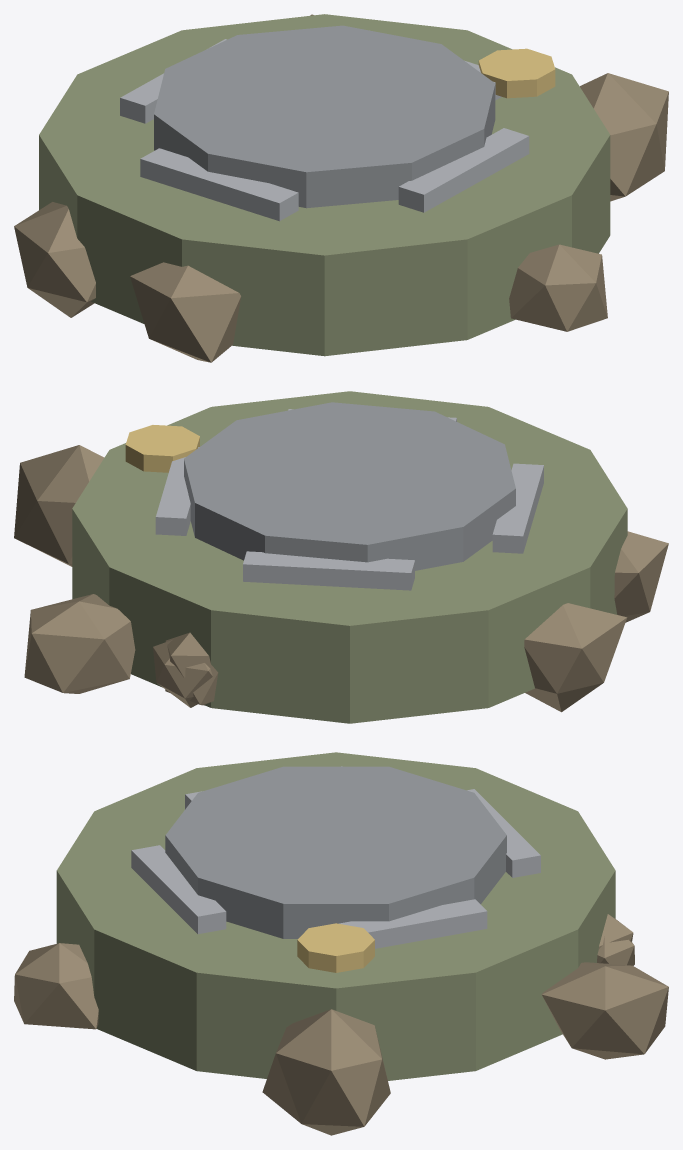
File: land_mine.glb
3 renders of one model, top to bottom at view 1: azimuth 30°, elevation 25°; view 2: azimuth 150°, elevation 25°; view 3: azimuth 270°, elevation 25°, orthographic. The views are drawn at different scales.
Parts seen in each view (by area): view 1: land_mine; view 2: land_mine; view 3: land_mine.
Part boxes in pixels (left/top/right/bottom): land_mine: left=14, top=14, right=668, bottom=362; land_mine: left=14, top=391, right=668, bottom=723; land_mine: left=14, top=752, right=668, bottom=1135.
Size of the model in its own units: 0.4532 by 0.1216 by 0.422.
